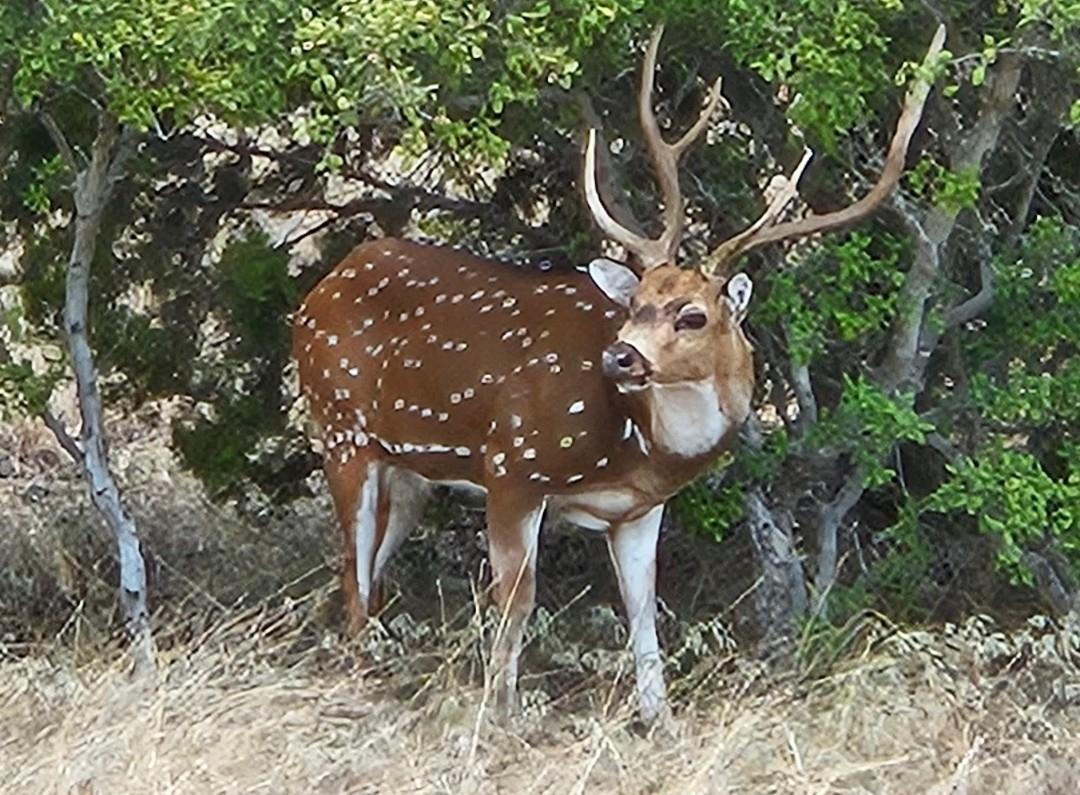Deer: (292, 25, 930, 718)
